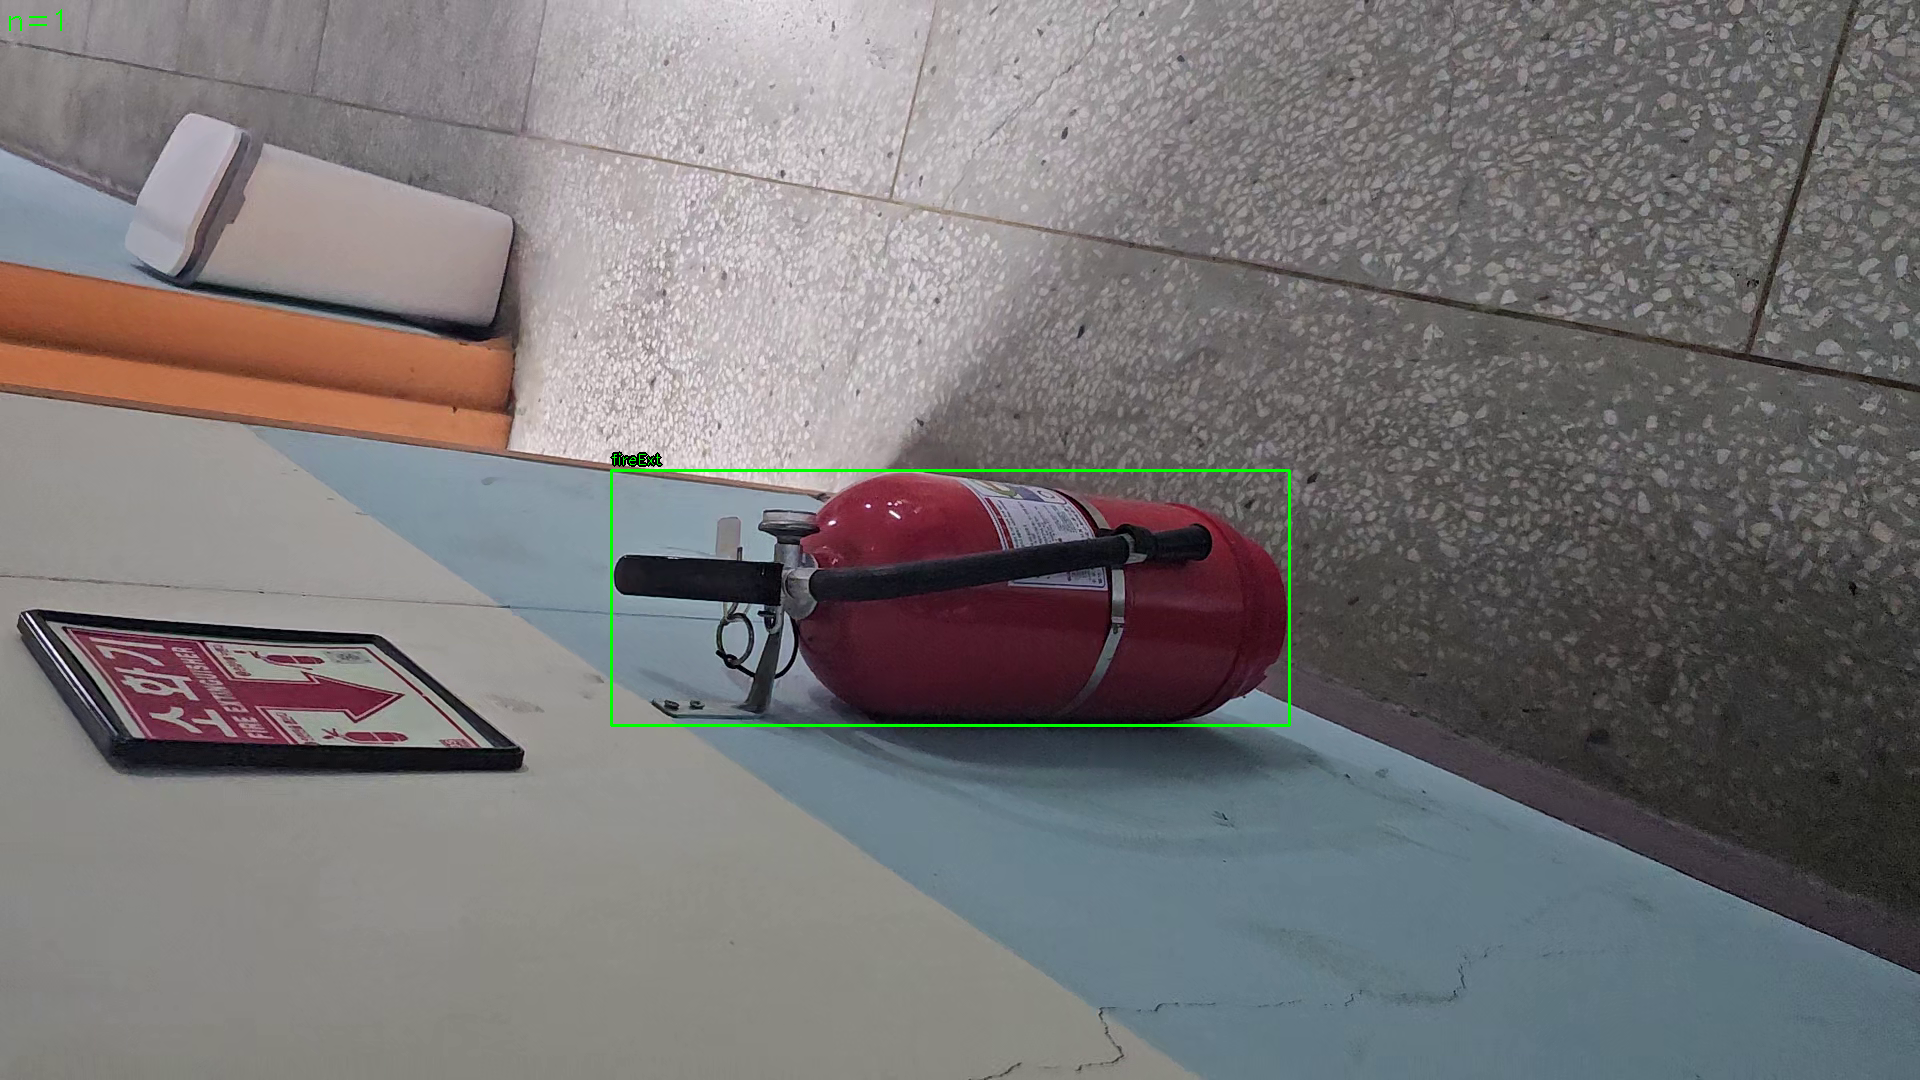lane: (611, 469, 1290, 727)
